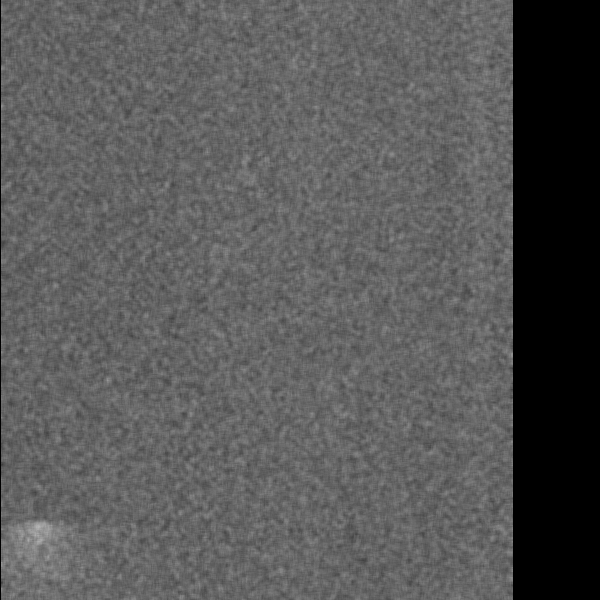spark: (23, 518, 54, 586)
